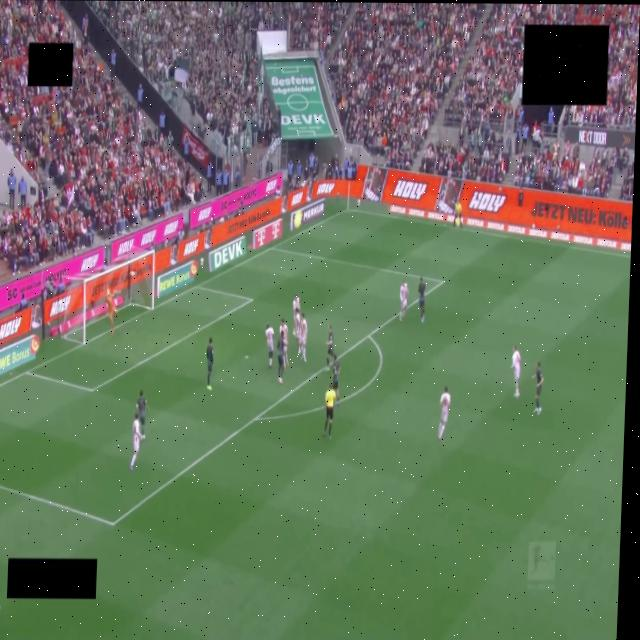player: (131, 412, 142, 471), (438, 386, 450, 440), (511, 345, 522, 399), (532, 362, 543, 415), (292, 309, 303, 355), (332, 355, 342, 405), (137, 391, 147, 440), (107, 289, 117, 335), (280, 318, 289, 368), (299, 314, 307, 361), (277, 331, 284, 384), (418, 277, 426, 322), (326, 325, 334, 370), (266, 325, 274, 369), (207, 338, 213, 391), (399, 283, 407, 321), (293, 294, 300, 318), (0, 579, 1, 640)
referee: (323, 385, 335, 438)
